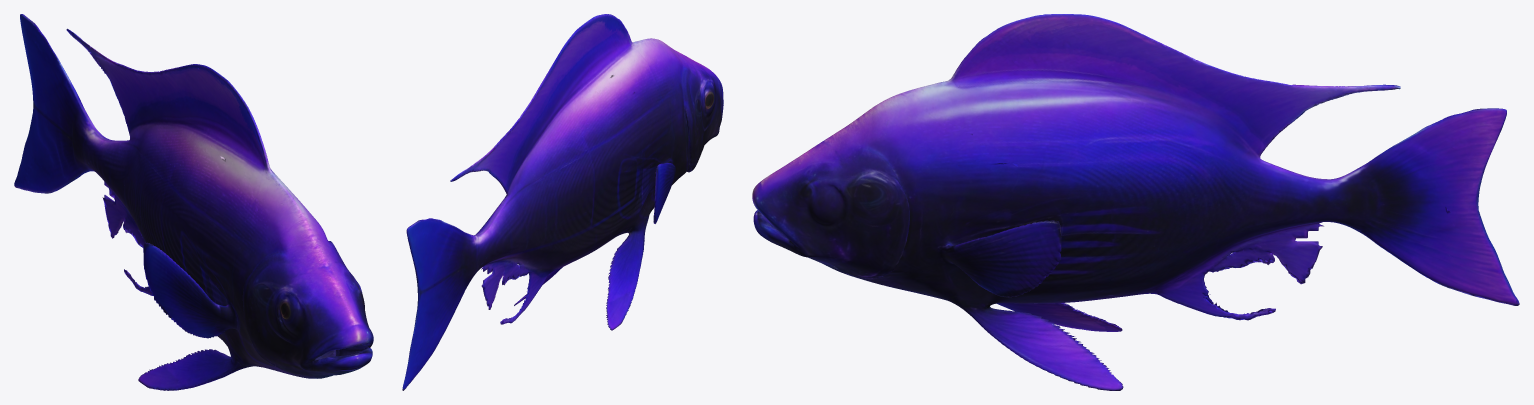
The model's file is futuristic_bioluminescent_fish.glb.
3 views of the same model, side by side, from view 1: azimuth 30°, elevation 25°; view 2: azimuth 150°, elevation 25°; view 3: azimuth 270°, elevation 25° (orthographic). The views are drawn at different scales.
Parts seen in each view (by area): view 1: Model No-13_0; view 2: Model No-13_0; view 3: Model No-13_0.
Boxes of the visible parts, bbox=[...] form: Model No-13_0: bbox=[14, 14, 373, 390]; Model No-13_0: bbox=[402, 14, 723, 390]; Model No-13_0: bbox=[752, 14, 1519, 390].
Size of the model in its own units: 0.3793 by 0.7521 by 1.5.
Materials: 1 (1 with a texture image).
